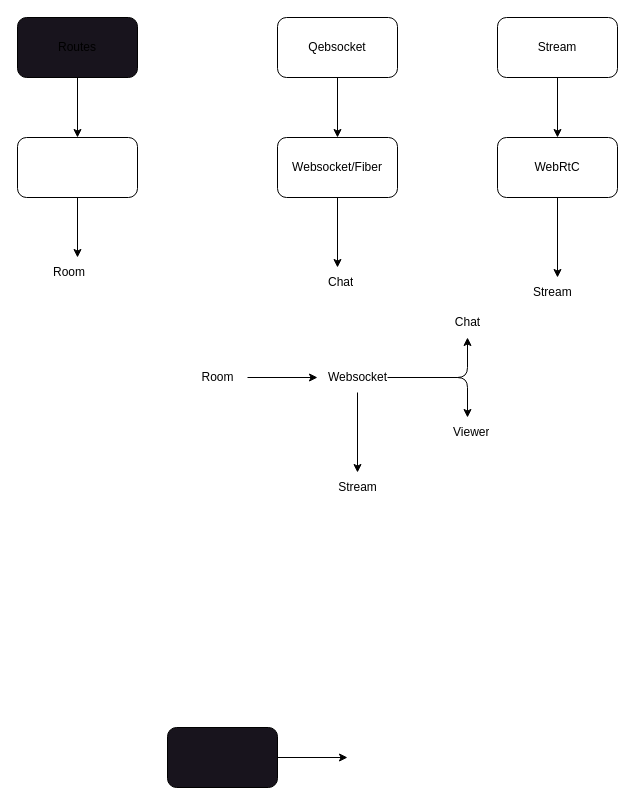
The diagram is 635 pixels wide and 805 high, and some of its shapes have lost their labels. Each missing label, with the centre of its shape:
docker compose: the point at 222,757
Fiber: the point at 77,167
